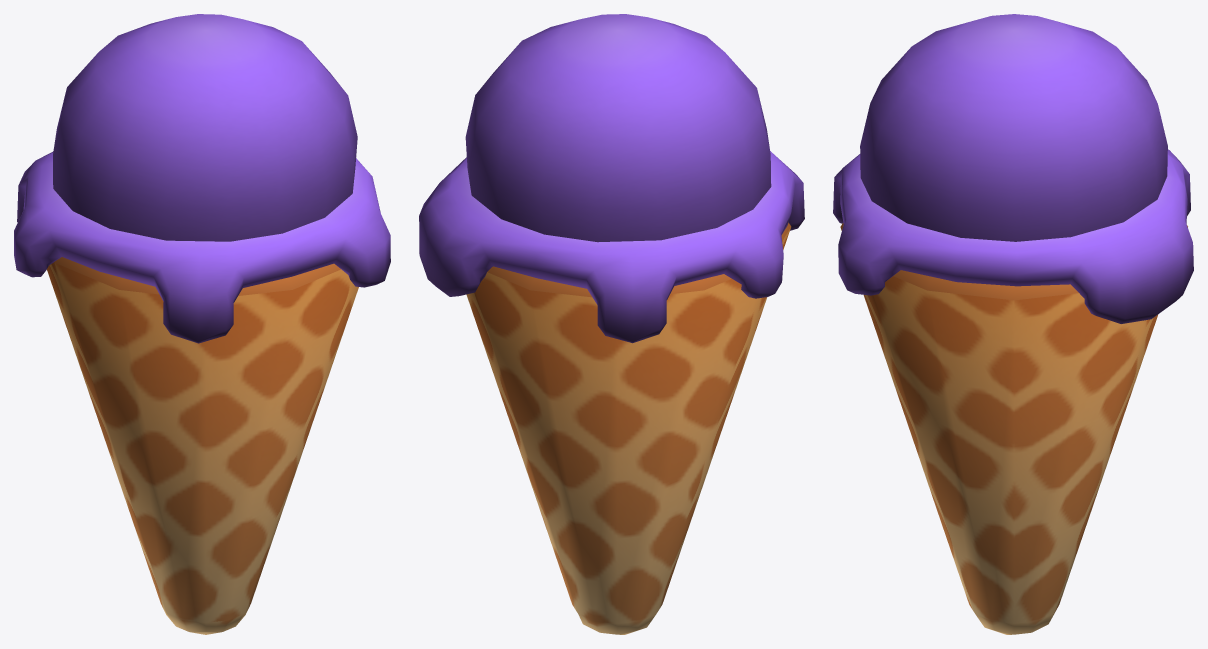
The model's file is m_IceCream10.fbx.
The picture shows the model from 3 angles, left to right: view 1: azimuth 30°, elevation 25°; view 2: azimuth 150°, elevation 25°; view 3: azimuth 270°, elevation 25°; orthographic projection.
Visible parts, largest first — view 1: m_IceCream10; view 2: m_IceCream10; view 3: m_IceCream10.
Part boxes in pixels (x1,y1,x2,y2): m_IceCream10: (14,14,390,634); m_IceCream10: (419,14,804,634); m_IceCream10: (833,14,1193,634).
Bounding box in the file's own units: 9.64 × 16.94 × 9.25.
